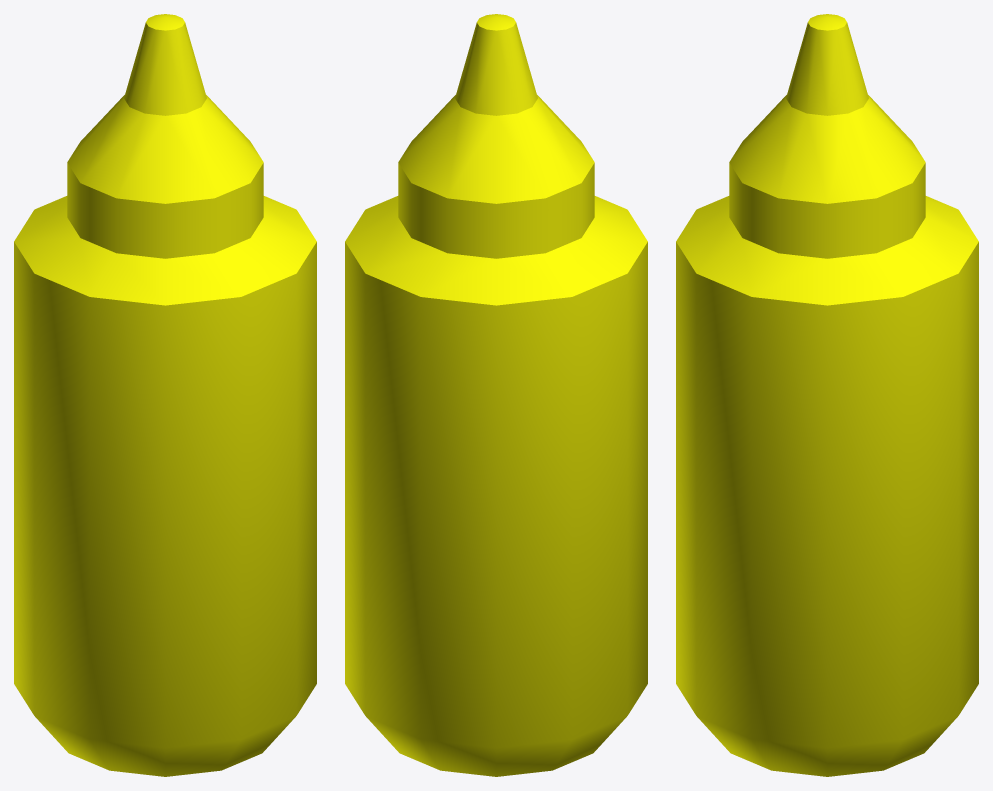
The model's file is mustard.gltf.
The picture shows the model from 3 angles, left to right: view 1: azimuth 30°, elevation 25°; view 2: azimuth 150°, elevation 25°; view 3: azimuth 270°, elevation 25°; orthographic projection.
Parts seen in each view (by area): view 1: mustard; view 2: mustard; view 3: mustard.
Part boxes in pixels (x1,y1,x2,y2): mustard: (14,14,316,776); mustard: (345,14,647,776); mustard: (676,14,978,776).
Bounding box in the file's own units: 0.3 × 0.7785 × 0.3.
Materials: 1 (1 with a texture image).
